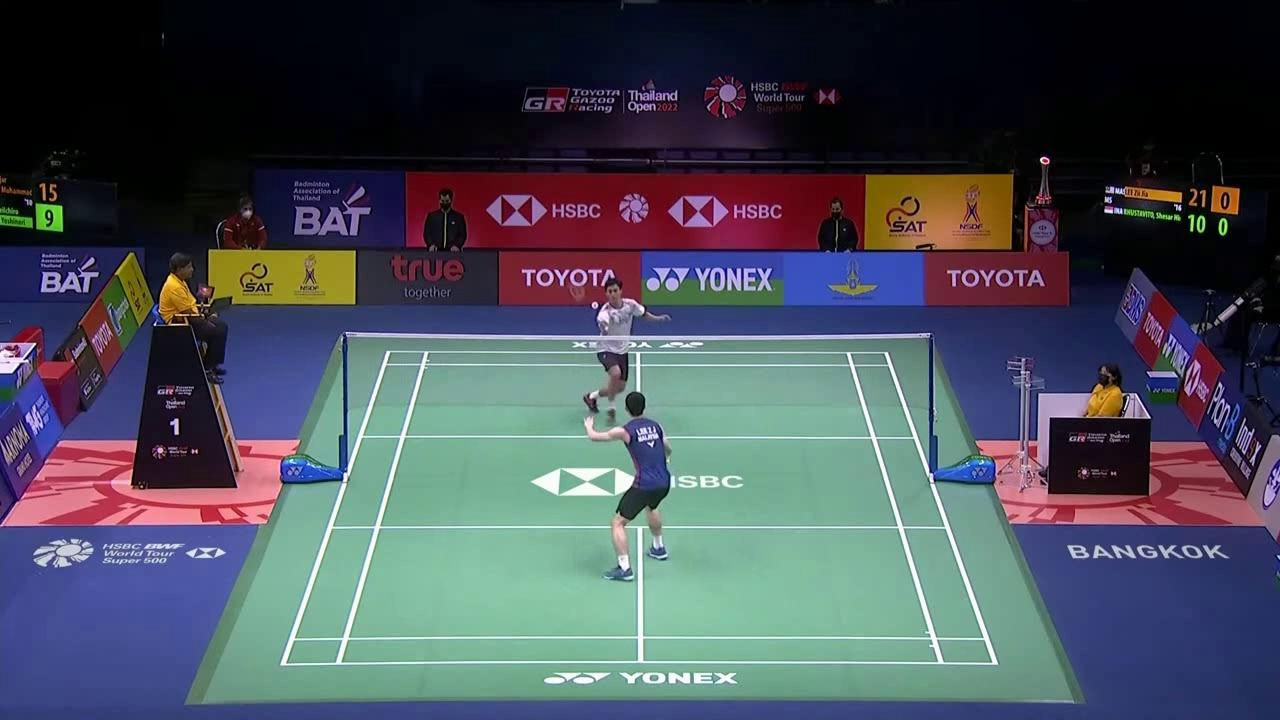racket: (569, 283, 603, 326)
shuttle: (591, 301, 599, 309)
